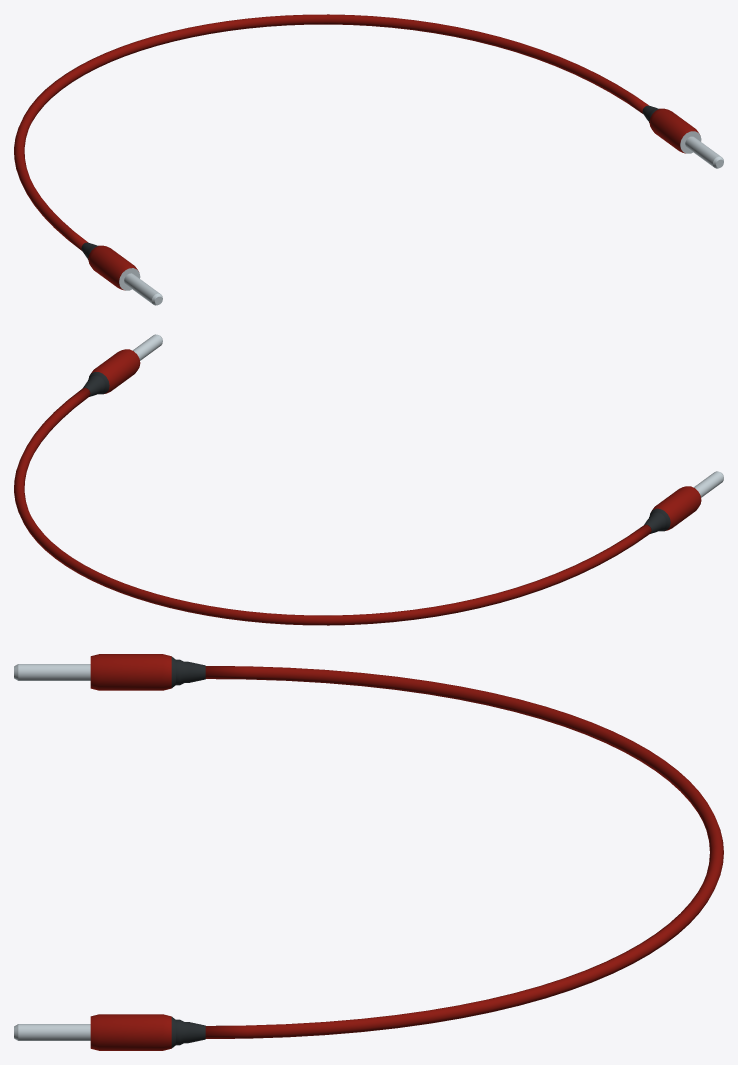
File: VLAB_cables.fbx
3 views of the same model, one above another, from view 1: azimuth 30°, elevation 25°; view 2: azimuth 150°, elevation 25°; view 3: azimuth 270°, elevation 25° (orthographic). The views are drawn at different scales.
Visible parts, largest first — view 1: VLAB_cables_CableGuide_VIS, VLAB_cables_PlugB_VIS, VLAB_cables_PlugA_VIS; view 2: VLAB_cables_CableGuide_VIS, VLAB_cables_PlugA_VIS, VLAB_cables_PlugB_VIS; view 3: VLAB_cables_CableGuide_VIS, VLAB_cables_PlugA_VIS, VLAB_cables_PlugB_VIS.
Boxes of the visible parts, x1,y1,x2,y2 form: VLAB_cables_CableGuide_VIS: (14,14,648,250); VLAB_cables_PlugB_VIS: (642,105,723,168); VLAB_cables_PlugA_VIS: (81,242,162,305); VLAB_cables_CableGuide_VIS: (14,388,651,625); VLAB_cables_PlugA_VIS: (644,471,723,533); VLAB_cables_PlugB_VIS: (83,334,162,396); VLAB_cables_CableGuide_VIS: (205,666,723,1038); VLAB_cables_PlugA_VIS: (14,654,205,690); VLAB_cables_PlugB_VIS: (14,1014,205,1050).
Size of the model in its own units: 0.2086 by 0.0086 by 0.1666.
